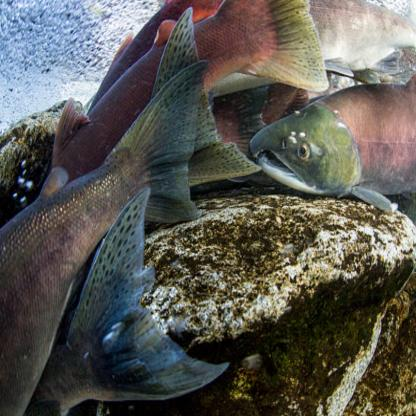sockeye: (264, 76, 416, 202)
sockeye-group: (59, 2, 416, 207)
